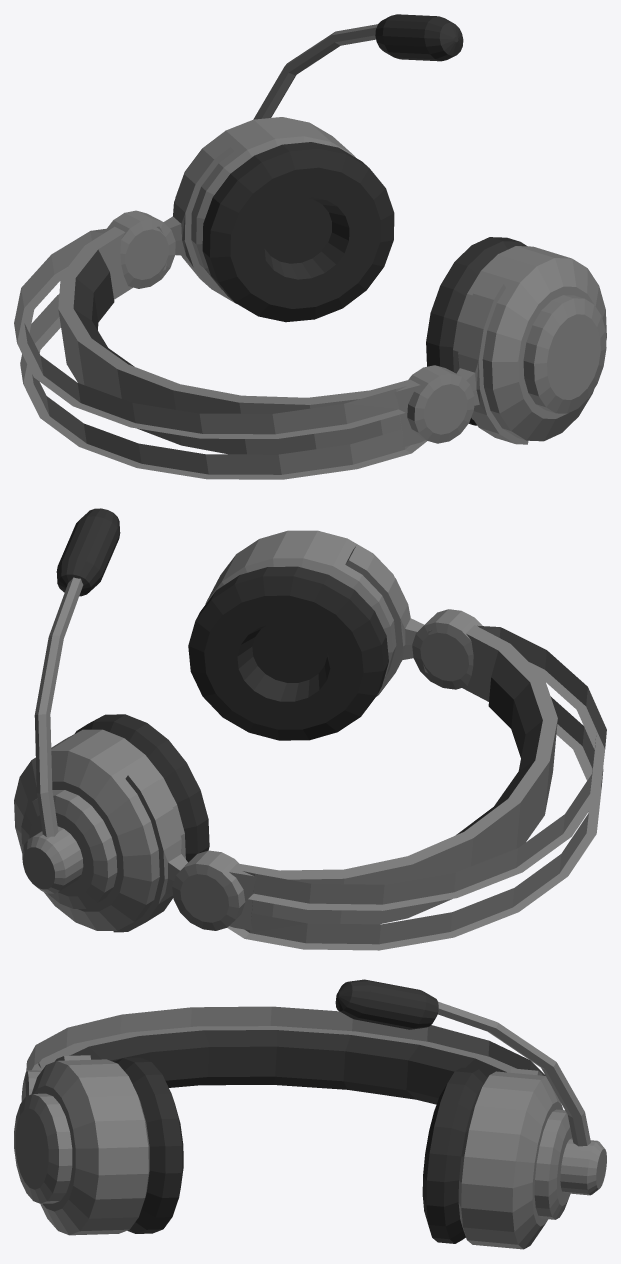
File: high_end_headset_lev1.glb
3 renders of one model, top to bottom at view 1: azimuth 30°, elevation 25°; view 2: azimuth 150°, elevation 25°; view 3: azimuth 270°, elevation 25°, orthographic. The views are drawn at different scales.
Parts seen in each view (by area): view 1: high_end_headset_lev1; view 2: high_end_headset_lev1; view 3: high_end_headset_lev1.
Boxes of the visible parts, bbox=[...] form: high_end_headset_lev1: bbox=[14, 14, 606, 479]; high_end_headset_lev1: bbox=[14, 508, 606, 950]; high_end_headset_lev1: bbox=[14, 979, 606, 1249].
Bounding box in the file's own units: 0.4617 × 0.3156 × 0.5715.
1 material, 1 textured.
